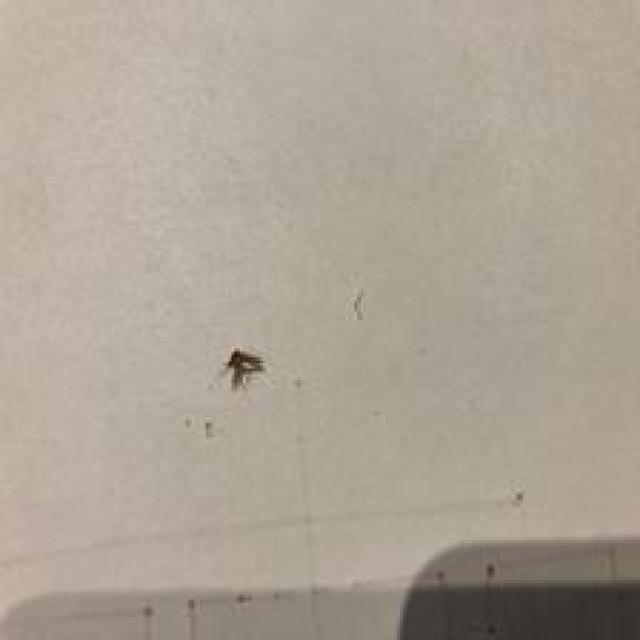Culex: (223, 347, 266, 390)
